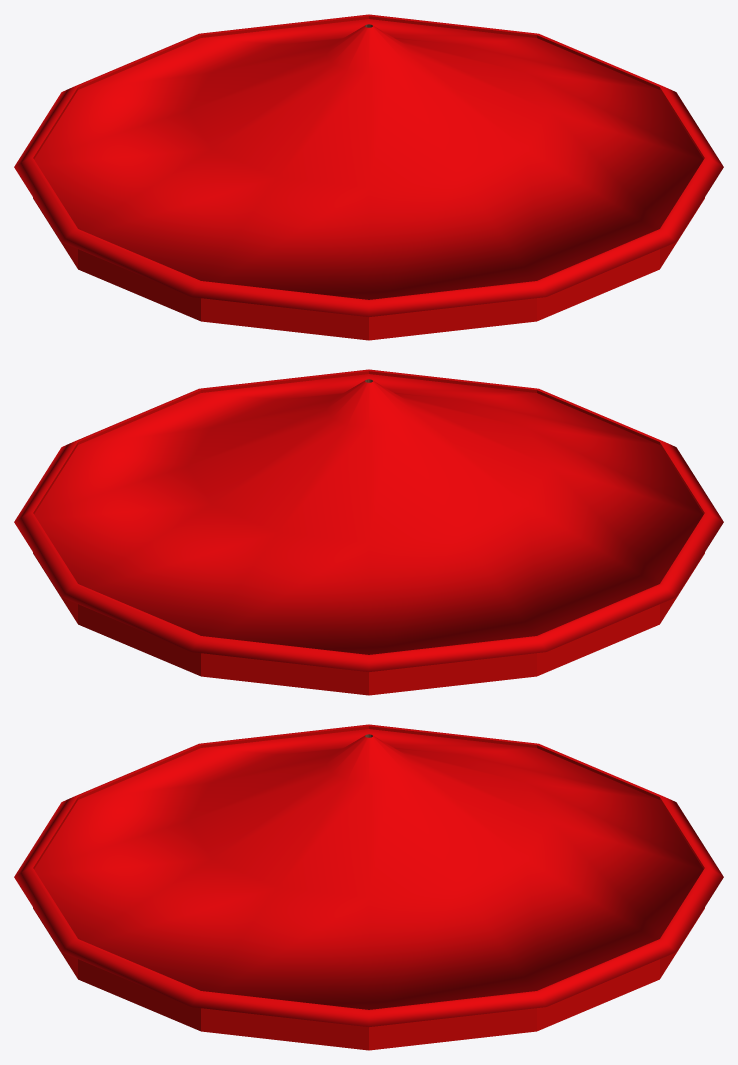
The model's file is Circus_test1.glb.
3 renders of one model, top to bottom at view 1: azimuth 30°, elevation 25°; view 2: azimuth 150°, elevation 25°; view 3: azimuth 270°, elevation 25°, orthographic.
Visible parts, largest first — view 1: Murs; view 2: Murs; view 3: Murs.
Boxes of the visible parts, x1,y1,x2,y2 form: Murs: [14, 14, 723, 340]; Murs: [14, 369, 723, 695]; Murs: [14, 724, 723, 1050].
Size of the model in its own units: 79.27 by 21.31 by 79.27.
Materials: 4 (2 with a texture image).
